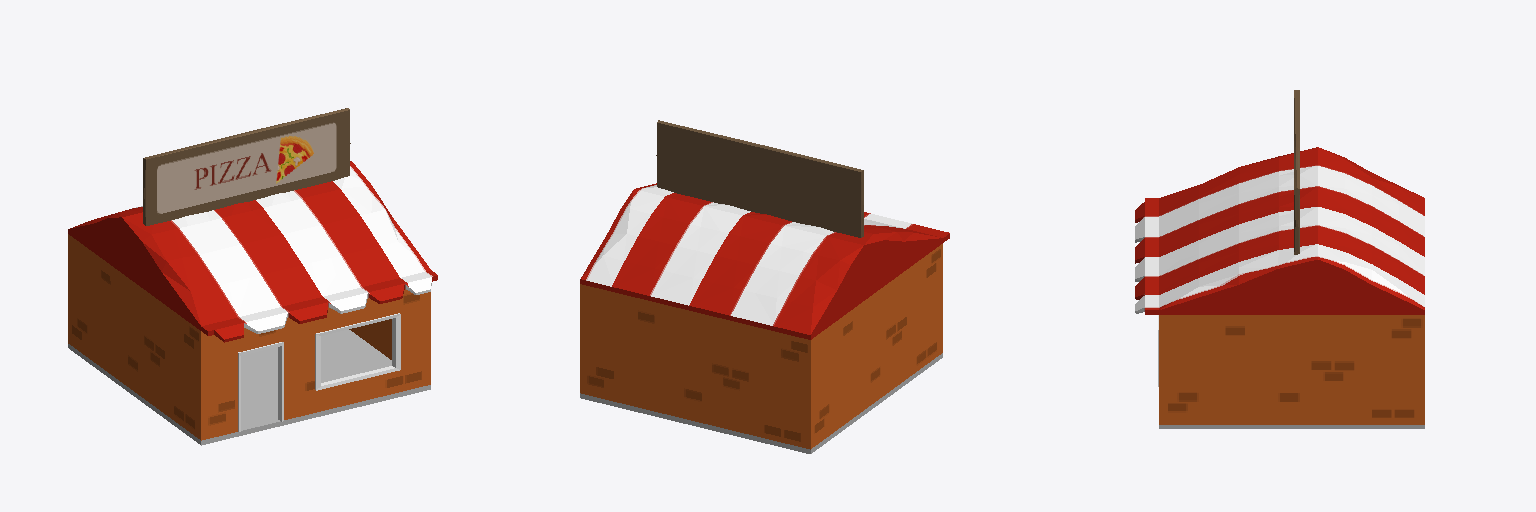
The picture shows the model from 3 angles: view 1: azimuth 30°, elevation 25°; view 2: azimuth 150°, elevation 25°; view 3: azimuth 270°, elevation 25°; orthographic projection.
Visible parts, largest first — view 1: pPlane8; view 2: pPlane8; view 3: pPlane8.
Part boxes in pixels (left/top/right/bottom): pPlane8: left=68, top=108, right=437, bottom=445; pPlane8: left=580, top=120, right=949, bottom=453; pPlane8: left=1135, top=90, right=1424, bottom=428.
Size of the model in its own units: 20.63 by 20.09 by 22.52.
1 materials, 1 textured.